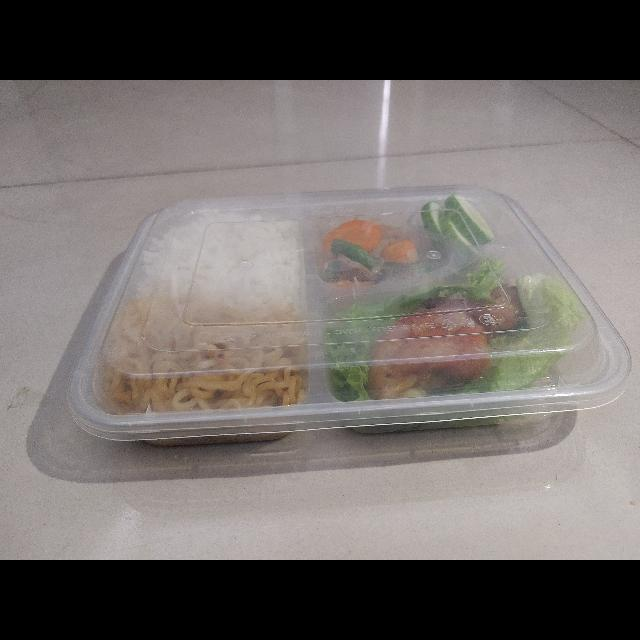bento: (68, 186, 632, 438)
